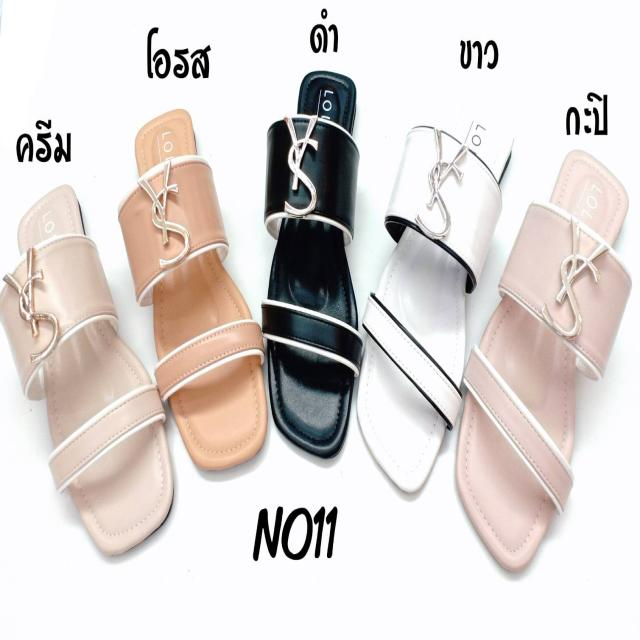black: (264, 69, 366, 449)
cream: (13, 180, 175, 535)
kapi: (460, 144, 625, 566)
orot: (141, 115, 268, 465)
white: (354, 102, 515, 488)
